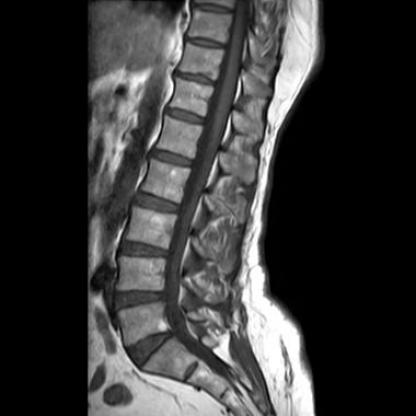Disc Bulgerotation: (116, 231, 171, 266), (112, 285, 164, 314)
